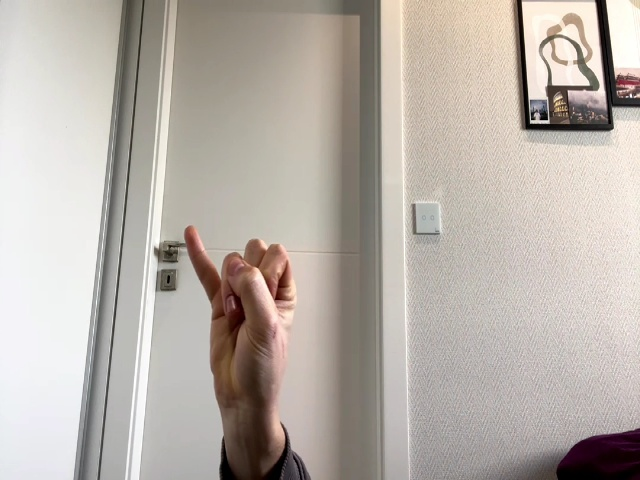I: (184, 225, 298, 413)
